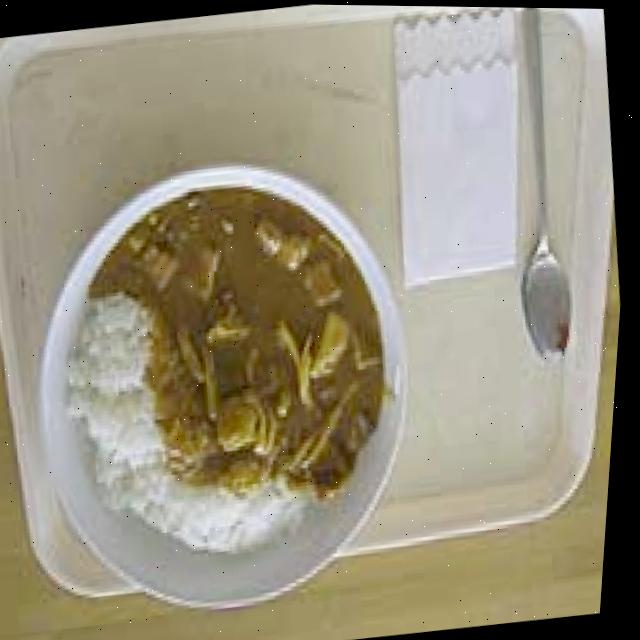牛肉菜式: (7, 145, 455, 636)
